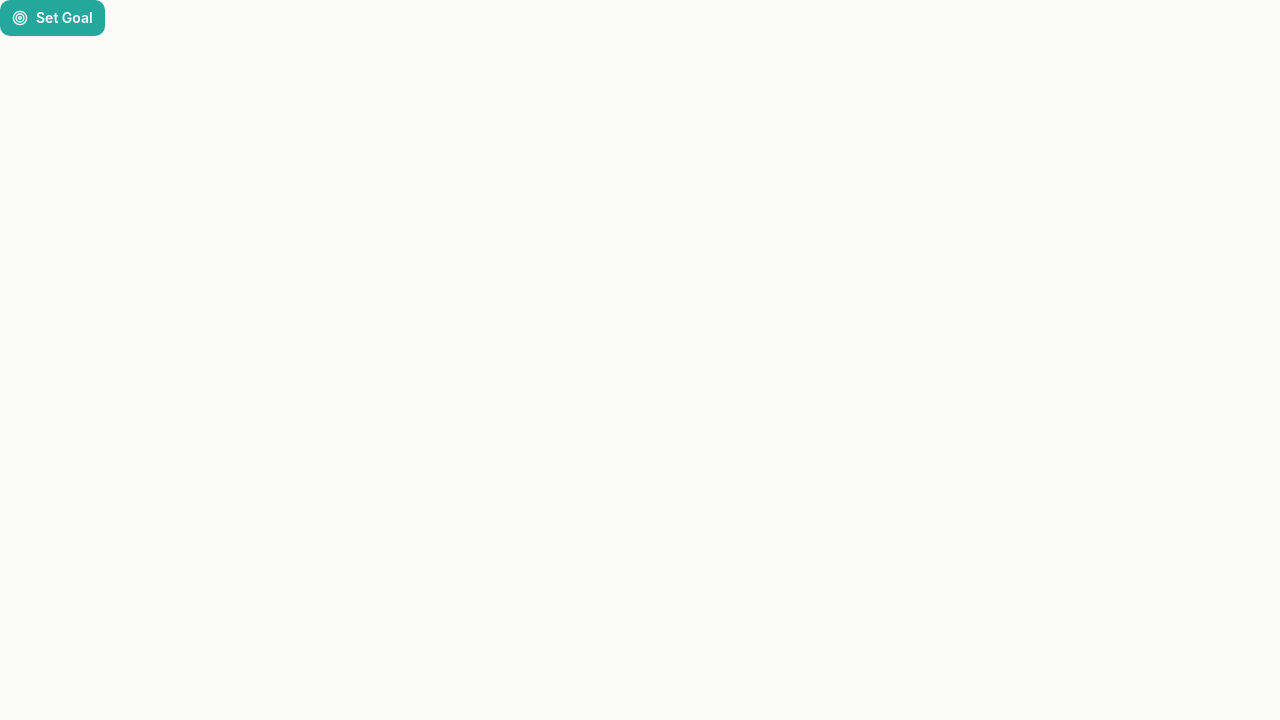
Test case: CreateSavingsGoalDialog › shows icon selection grid with 10 options
Click the button "Set Goal".
click(52, 18)  # box [0,0,105,36]
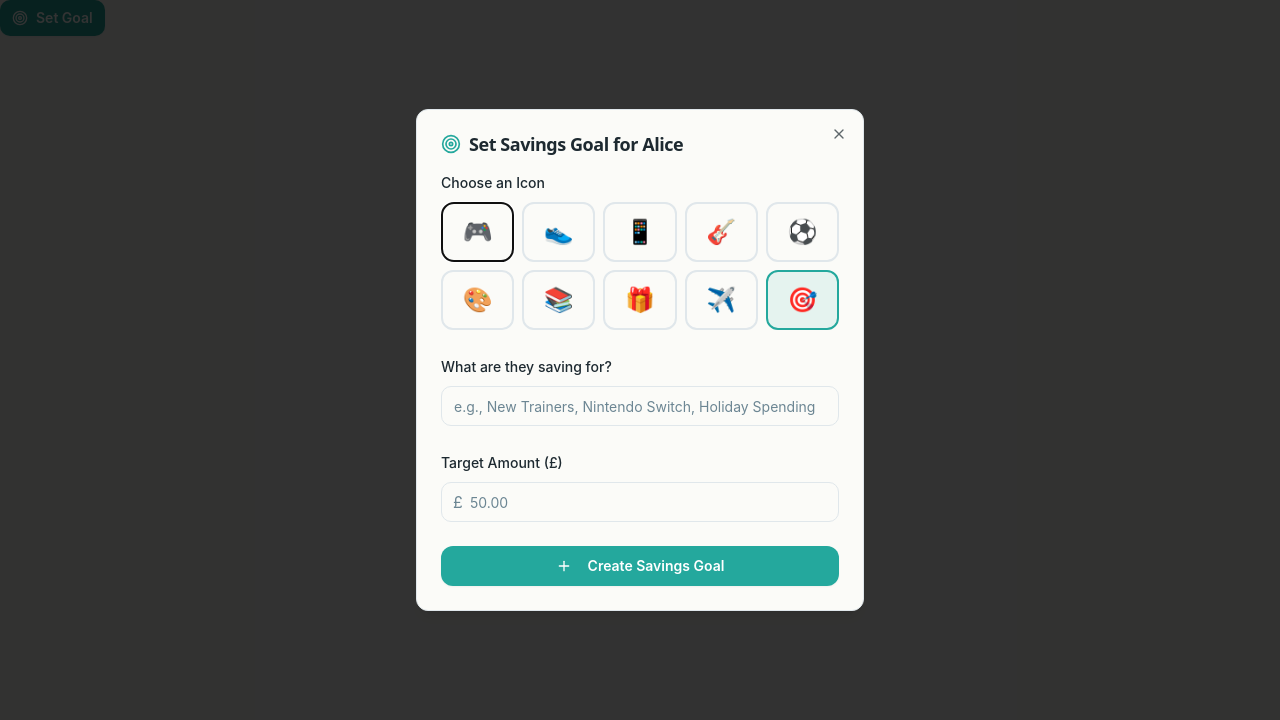
Now the text "Choose an Icon" is shown, box [441,174,545,191]
Now the button titled "Gaming" is shown, box [441,202,514,262]
Now the button titled "Trainers" is shown, box [522,202,595,262]
